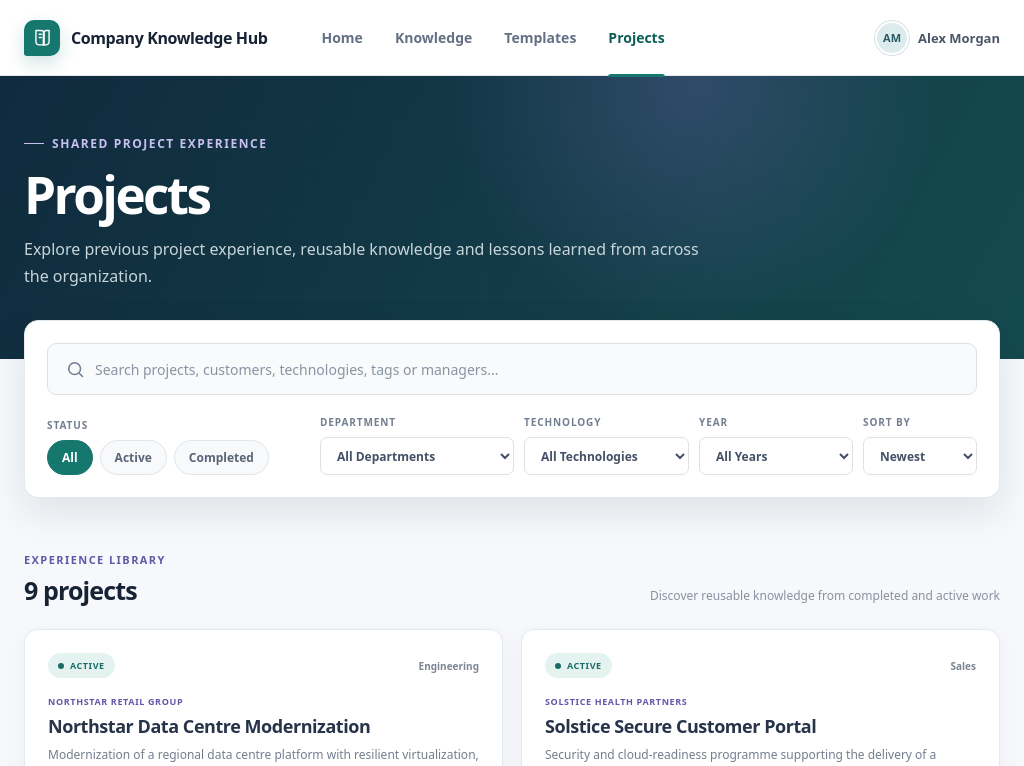
ProjectsPage › filters by year
Select "2024" in the dropdown labelled "Year" at point(776, 456), box [699,437,853,475]
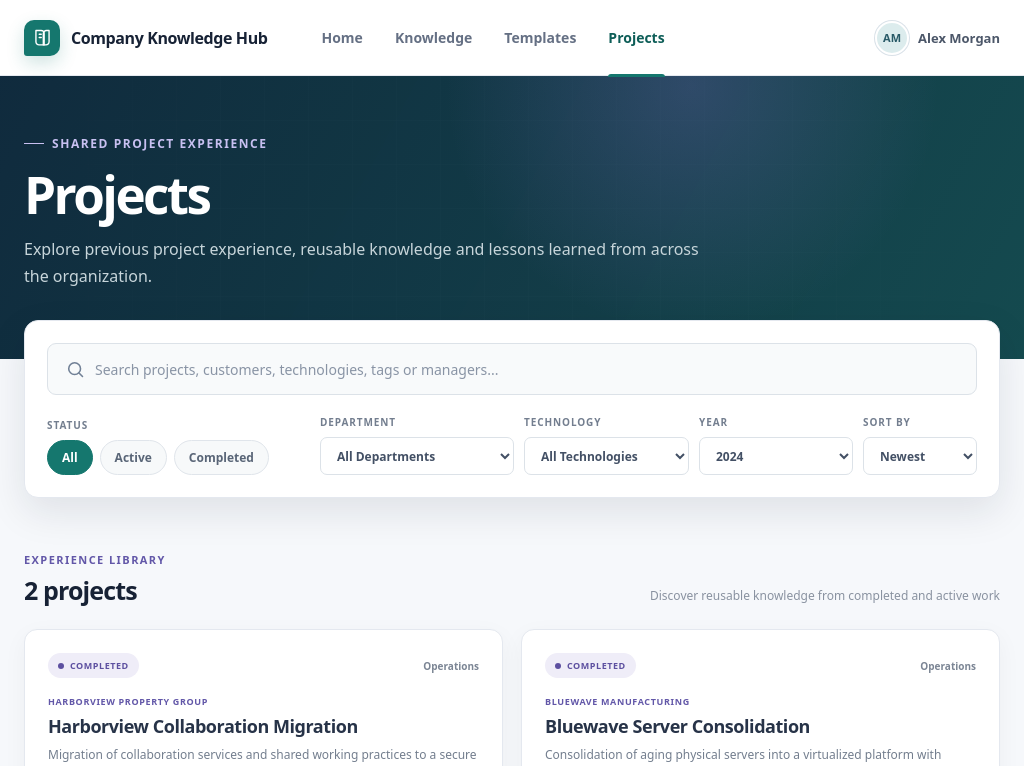
Check: the heading "Bluewave Server Consolidation" is shown, box [545,714,810,738]
Check: the heading "2 projects" is shown, box [24,573,137,607]
